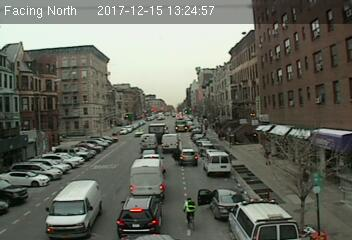bicycle: (183, 196, 197, 232)
car: (116, 197, 162, 237), (209, 190, 246, 221), (178, 148, 198, 165)
pedestrian: (263, 149, 273, 168)
police: (224, 196, 301, 240)
truck: (45, 180, 101, 239), (130, 159, 164, 196), (204, 150, 230, 174), (148, 124, 167, 144), (162, 134, 180, 150), (140, 134, 157, 149)
